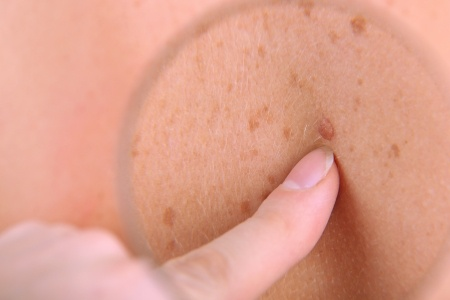melanoma: (263, 68, 373, 157)
